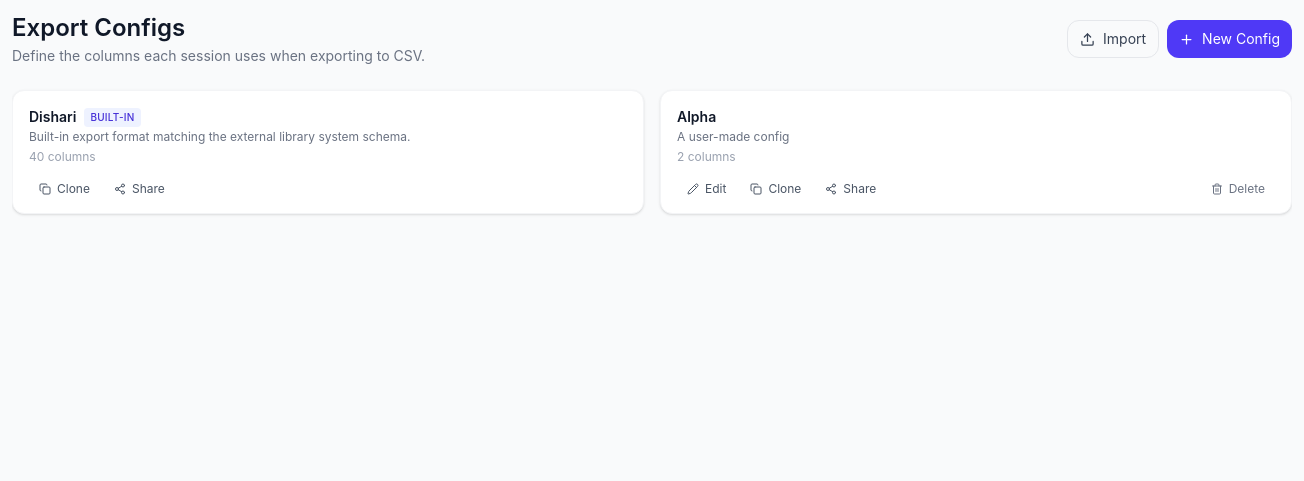
Test: ConfigsPage — list view › clicking Edit on a user config opens the editor with that config loaded
Click the button titled "Edit config".
click(707, 189)  # box top-left (677, 177), bottom-right (736, 201)
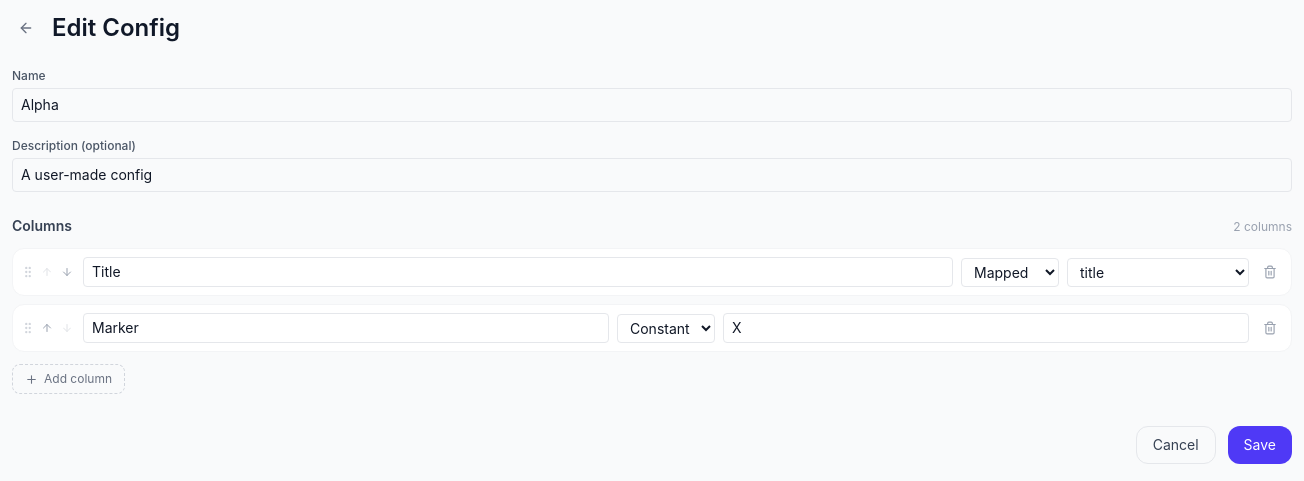
Result: the heading "Edit Config" is shown at top-left (52, 12), bottom-right (180, 44)
Result: the field showing "Alpha" is shown at top-left (12, 88), bottom-right (1292, 122)
